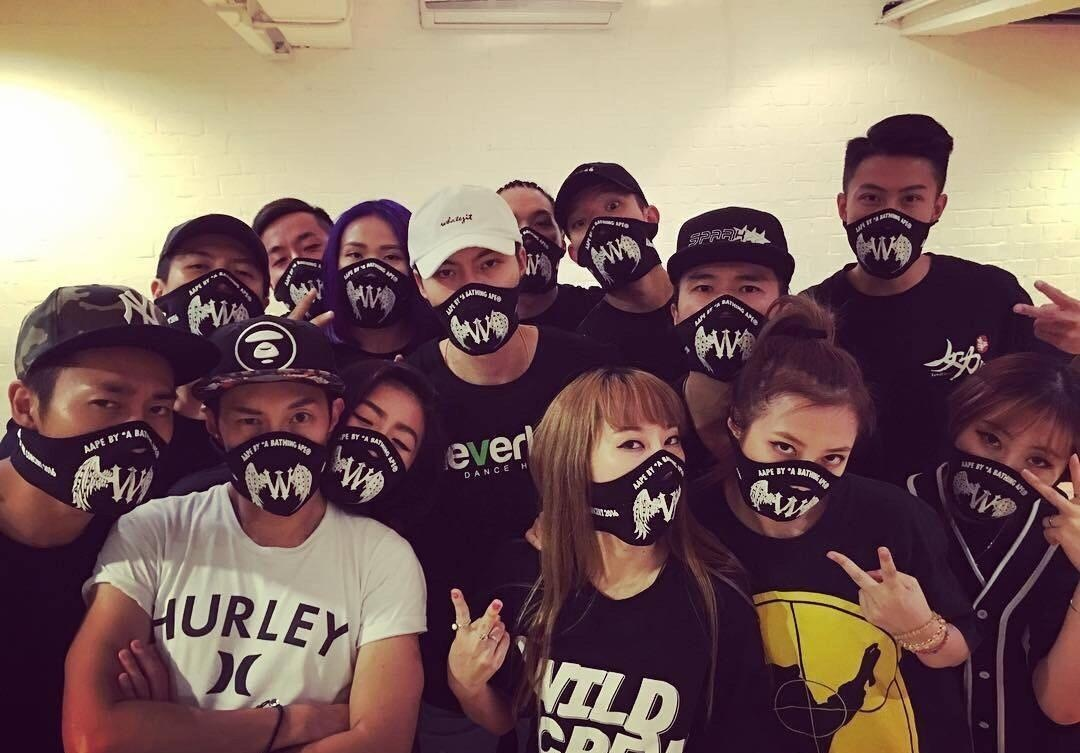Mask: (845, 177, 934, 268)
